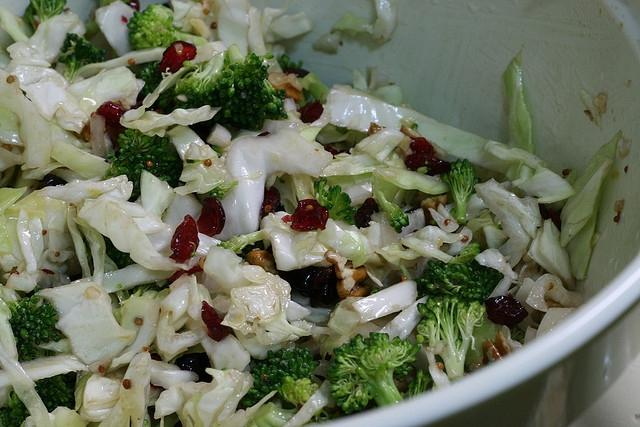broccoli: (158, 44, 290, 130), (327, 332, 421, 414), (100, 128, 186, 202), (416, 294, 486, 383), (243, 347, 320, 406), (415, 260, 504, 306), (126, 4, 210, 51), (9, 296, 67, 363), (248, 376, 322, 427), (441, 158, 482, 224), (58, 34, 107, 83), (314, 178, 356, 226), (34, 374, 75, 413), (20, 0, 67, 33), (376, 190, 409, 234), (216, 229, 266, 254), (132, 280, 174, 296), (278, 54, 303, 68)
